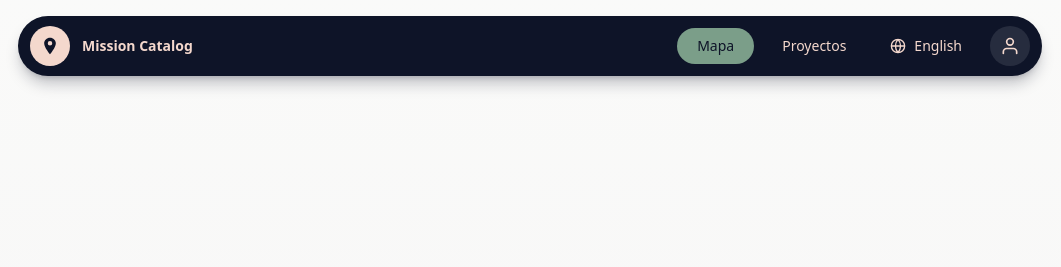
Scenario: Navbar › session › hides the login link and keeps the email out of sight until the user menu opens
What coordinates should you click on to do the following:
click the button named "Menú de usuario"
I would click on:
 (1010, 46)
Its box is [990, 26, 1030, 66].
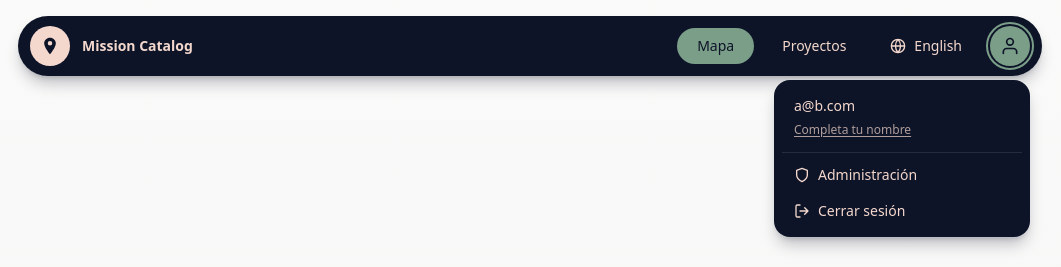
expect the button named "Menú de usuario" is expanded: met, box [990, 26, 1030, 66]
expect the text "a@b.com" is shown: met, box [794, 96, 855, 115]
expect the button "Cerrar sesión" is shown: met, box [782, 193, 1022, 229]
